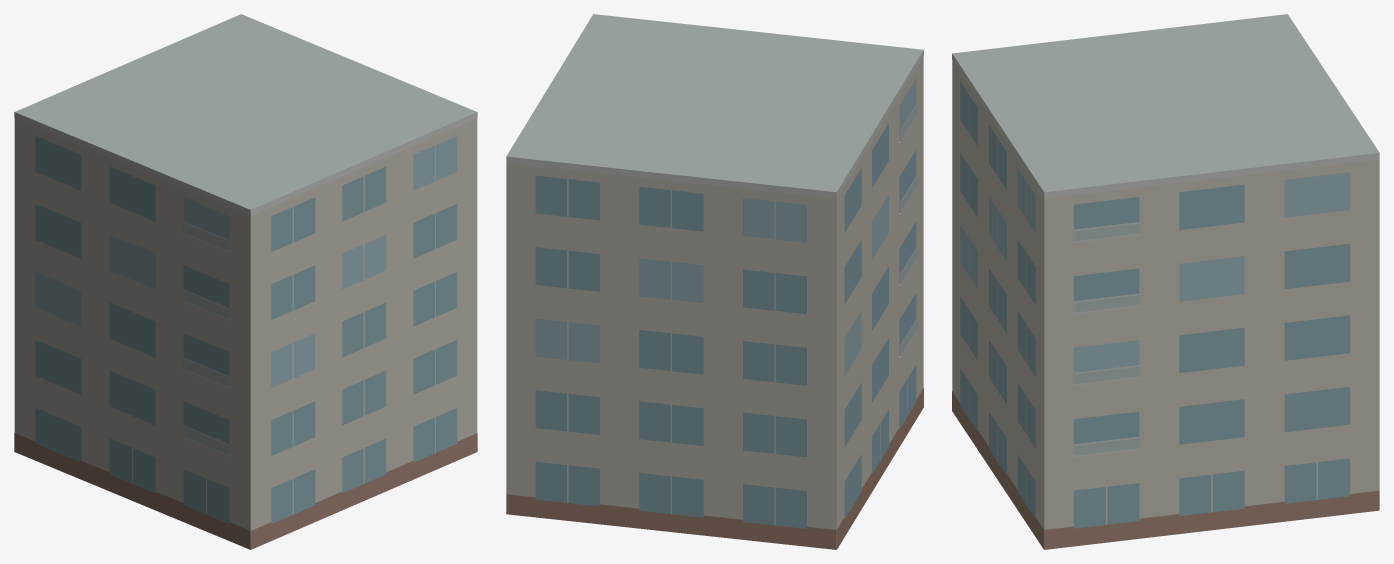
The model's file is survey-upis-32720556.glb.
3 views of the same model, side by side, from view 1: azimuth 30°, elevation 25°; view 2: azimuth 150°, elevation 25°; view 3: azimuth 270°, elevation 25° (orthographic). The views are drawn at different scales.
Visible parts, largest first — view 1: survey-upis-32720556.tmp; view 2: survey-upis-32720556.tmp; view 3: survey-upis-32720556.tmp.
Boxes of the visible parts, x1,y1,x2,y2 form: survey-upis-32720556.tmp: (14, 14, 477, 549); survey-upis-32720556.tmp: (506, 14, 923, 549); survey-upis-32720556.tmp: (952, 14, 1379, 549).
Bounding box in the file's own units: 14.54 × 13.6 × 14.75.
